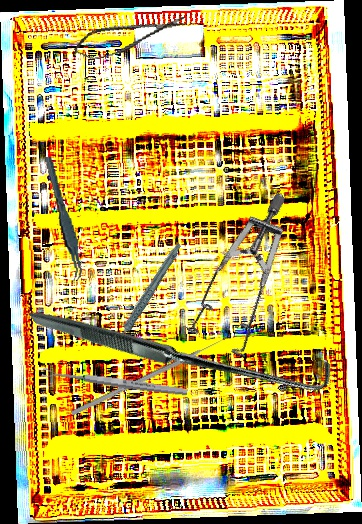Handpiece: (92, 241, 200, 347)
Hook Surgical: (28, 187, 339, 503)
Micro Scissor: (71, 9, 190, 64)
Pusher: (70, 333, 233, 417)
Speculum: (151, 191, 346, 376)
Surgical Spoon: (42, 366, 188, 398)
Tissue Forceps: (43, 154, 85, 283)
